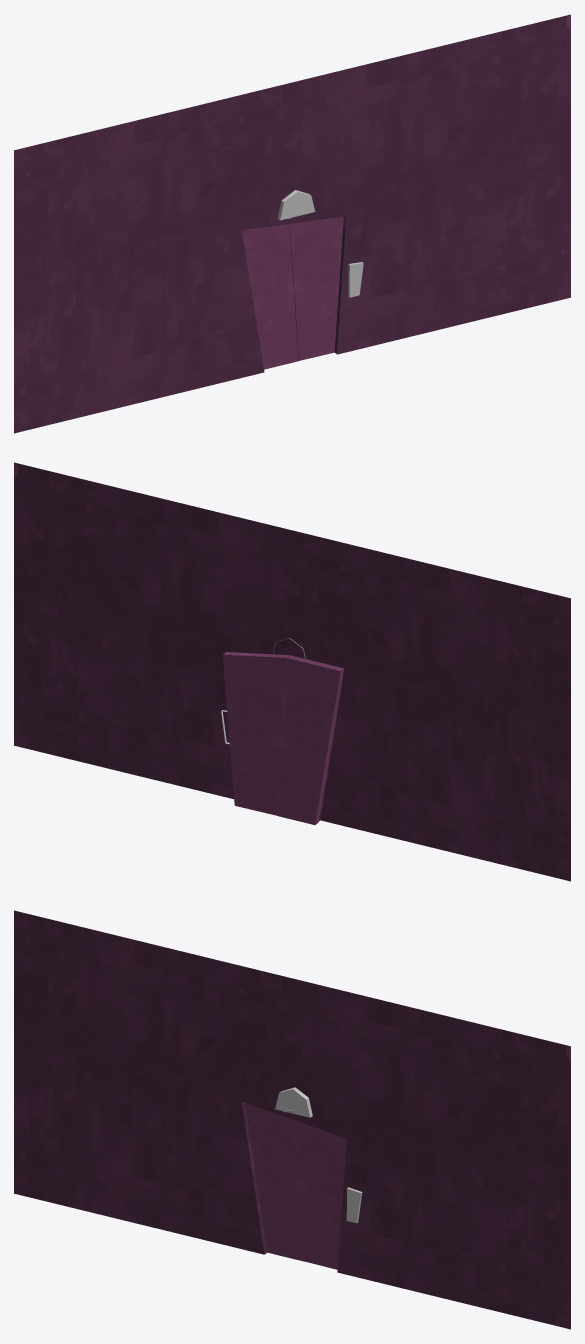
The model's file is elevatorUndWall 1.fbx.
3 views of the same model, one above another, from view 1: azimuth 30°, elevation 25°; view 2: azimuth 150°, elevation 25°; view 3: azimuth 330°, elevation 25° (orthographic).
Visible parts, largest first — view 1: walls, door_R, door_L, floorIndicator; view 2: walls, door_R, door_L; view 3: walls, door_L, door_R, floorIndicator.
Boxes of the visible parts, box(x1,y1,x2,y2) form: walls: box(14, 14, 570, 433); door_R: box(289, 216, 343, 360); door_L: box(241, 224, 298, 369); floorIndicator: box(277, 190, 315, 220); walls: box(14, 462, 570, 881); door_R: box(222, 652, 290, 815); door_L: box(277, 655, 344, 824); walls: box(14, 910, 570, 1329); door_L: box(245, 1102, 304, 1261); door_R: box(295, 1120, 346, 1269); floorIndicator: box(275, 1087, 312, 1117).
Size of the model in its own units: 26.43 by 12.84 by 0.7765.
